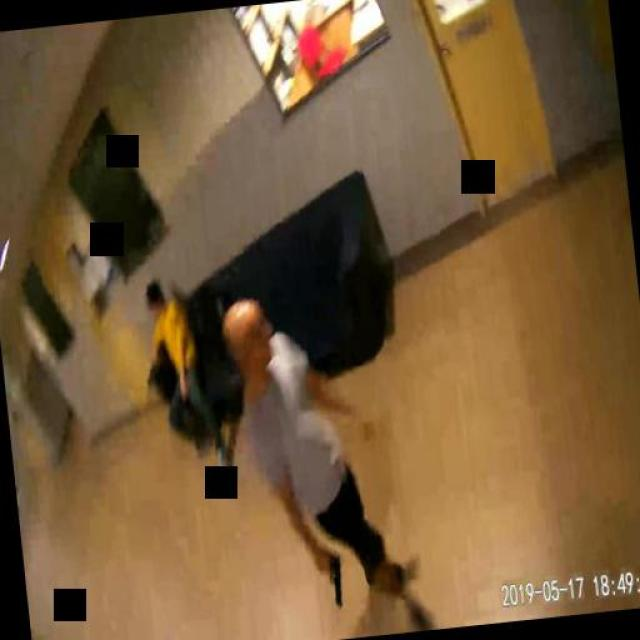gun: (312, 548, 343, 610)
